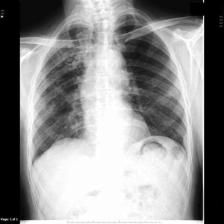tuberculosis: (27, 6, 196, 173)
